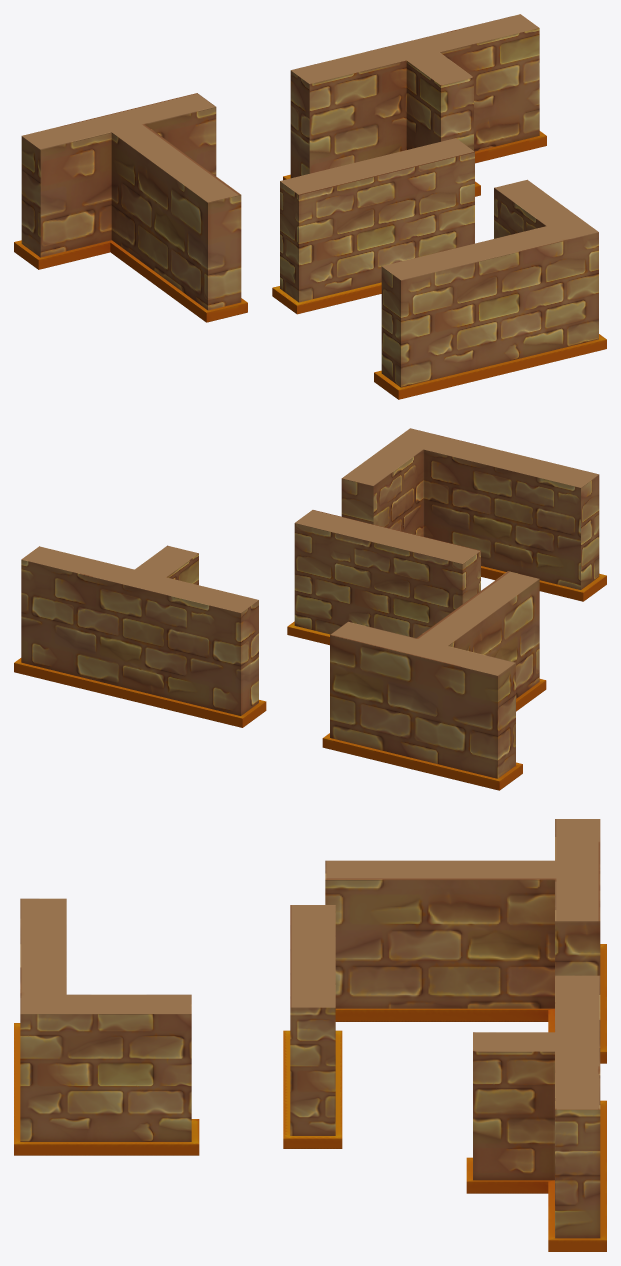
File: map_tuong.fbx
3 renders of one model, top to bottom at view 1: azimuth 30°, elevation 25°; view 2: azimuth 150°, elevation 25°; view 3: azimuth 270°, elevation 25°, orthographic. The views are drawn at different scales.
Visible parts, largest first — view 1: Cube.003, Cube.002, Cube.006, Cube; view 2: Cube.006, Cube.003, Cube.002, Cube; view 3: Cube.003, Cube.002, Cube.006, Cube.
Part boxes in pixels (x1,y1,x2,y2): Cube.003: [14, 93, 247, 322]; Cube.002: [374, 179, 606, 399]; Cube.006: [283, 14, 546, 196]; Cube: [272, 138, 474, 314]; Cube.006: [14, 545, 266, 727]; Cube.003: [322, 571, 546, 790]; Cube.002: [341, 428, 606, 601]; Cube: [287, 510, 480, 645]; Cube.003: [325, 819, 606, 1063]; Cube.002: [14, 898, 199, 1155]; Cube.006: [466, 975, 606, 1251]; Cube: [283, 905, 342, 1148].
Size of the model in its own units: 18.92 by 4.16 by 16.02.
Materials: 1 (1 with a texture image).
